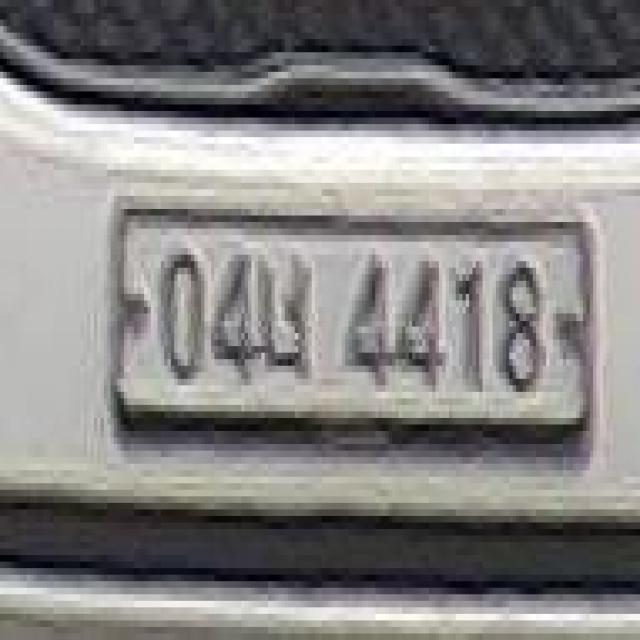illegal_plate: (107, 189, 591, 480)
